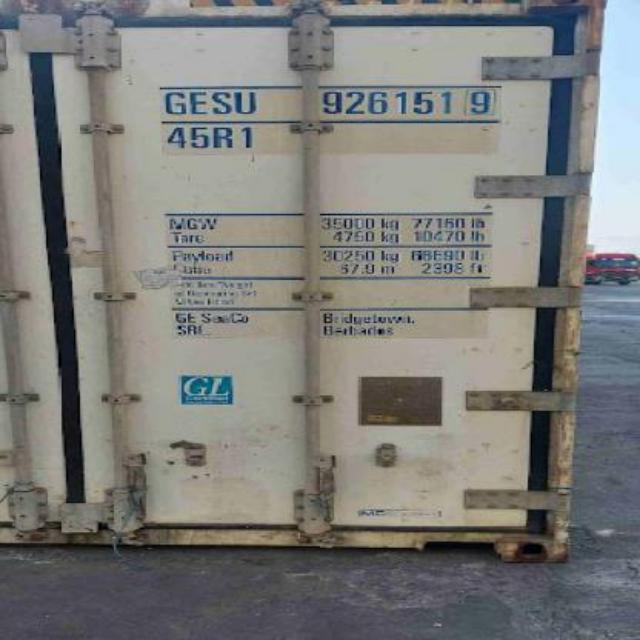1: (434, 80, 458, 118), (391, 84, 412, 120)
2: (344, 87, 366, 119)
5: (408, 84, 432, 120)
6: (364, 86, 390, 118)
9: (468, 86, 496, 124), (312, 88, 344, 114)
E: (188, 84, 212, 118)
G: (156, 86, 188, 120)
S: (210, 86, 232, 120)
U: (230, 87, 258, 119)
